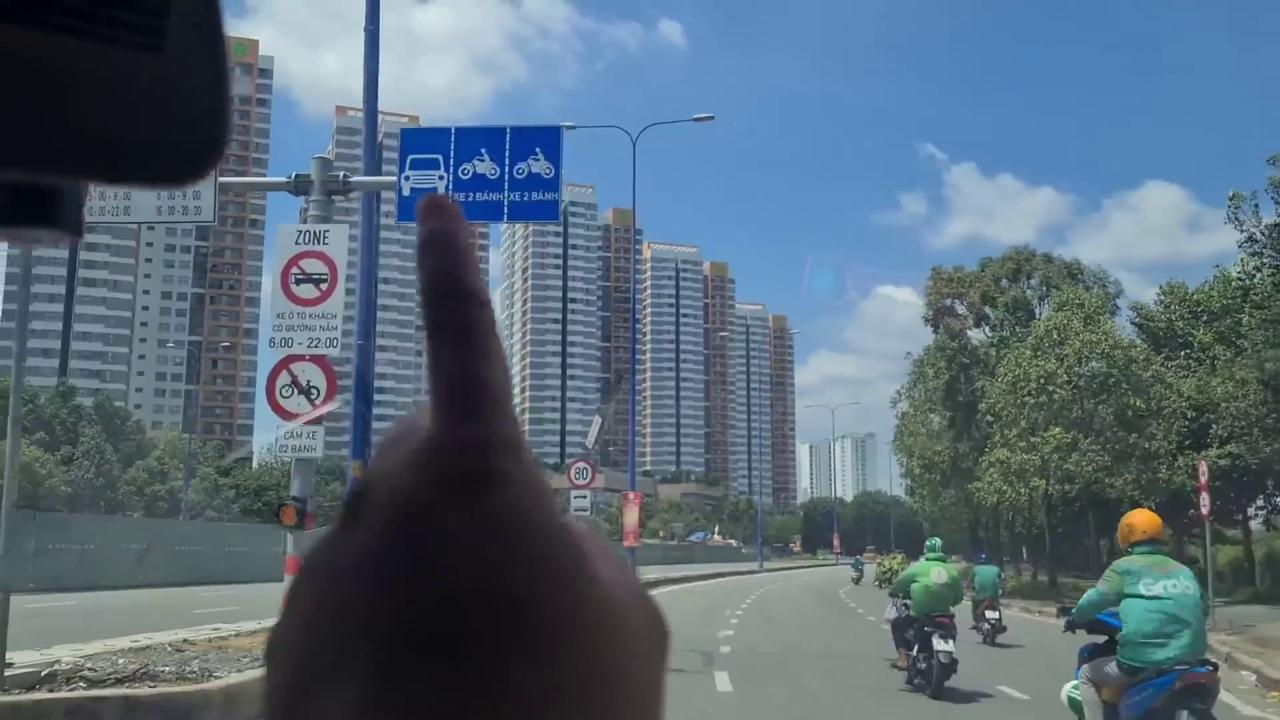Biển phụ: (272, 423, 324, 461), (568, 488, 592, 516)
Cấm cac phương tiện hoạt động trong khung giờ cố định: (266, 222, 352, 357)
Cấm xe máy: (264, 347, 341, 427)
Giới hạn tốc độ 80Km/h: (566, 458, 596, 487)
Làn đường cho từng xe: (390, 122, 564, 225)
